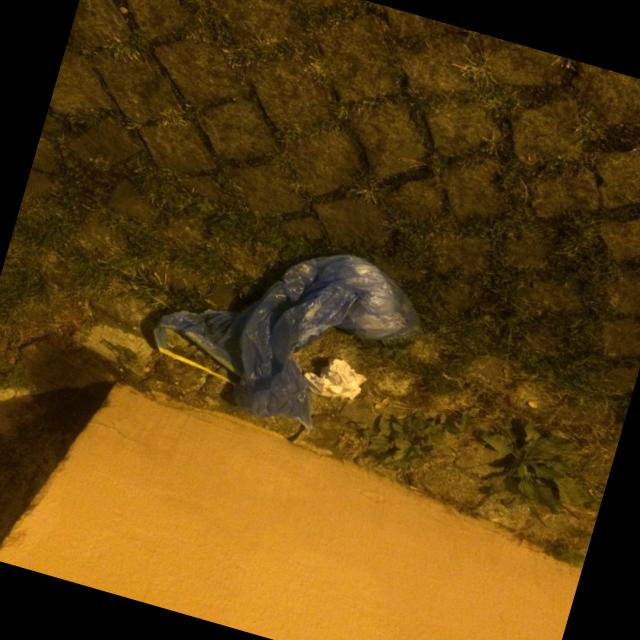less trash: (153, 254, 421, 428)
